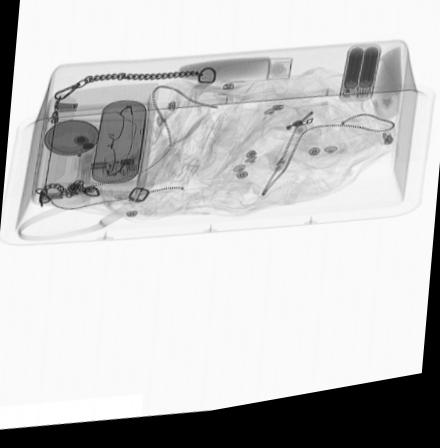Powerbank: (335, 55, 382, 113)
